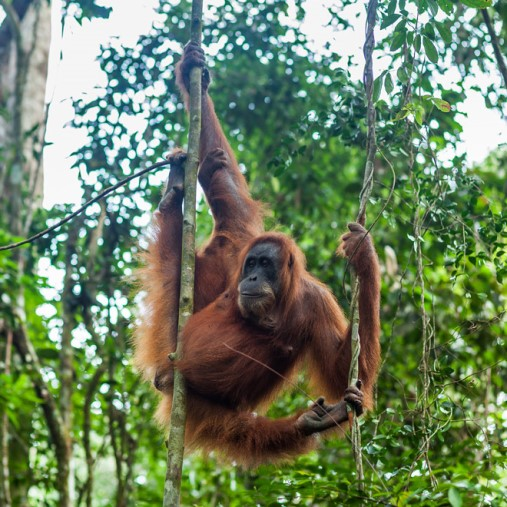Orangutan: (154, 151, 382, 459)
